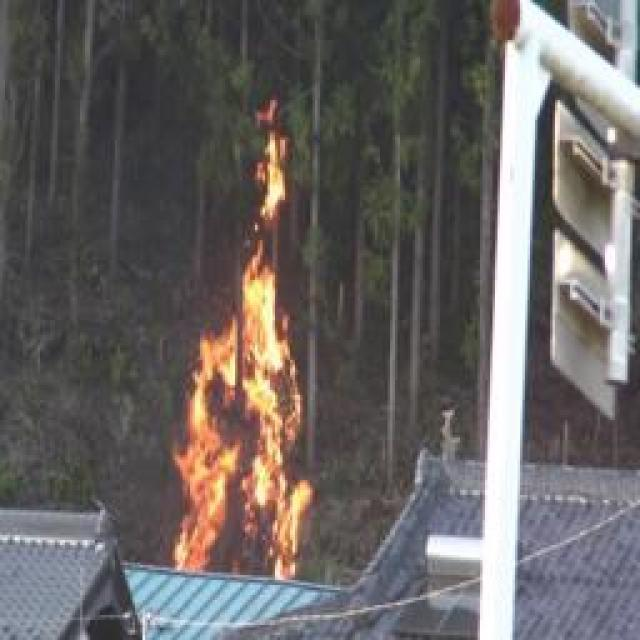Fire: (169, 248, 316, 578), (222, 94, 302, 214)
